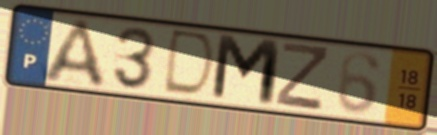3: (109, 26, 158, 92)
6: (334, 49, 383, 118)
A: (38, 17, 111, 91)
D: (159, 26, 219, 101)
M: (207, 31, 284, 110)
Z: (272, 40, 332, 114)
